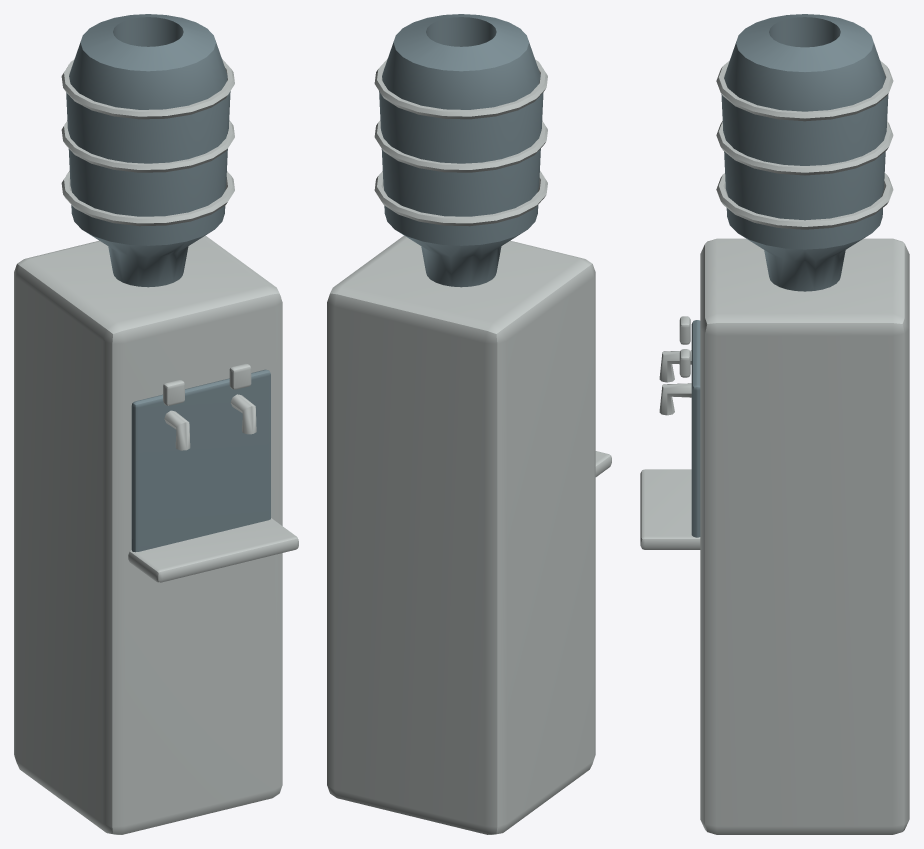
File: water-cooler.glb
3 renders of one model, left to right at view 1: azimuth 30°, elevation 25°; view 2: azimuth 150°, elevation 25°; view 3: azimuth 270°, elevation 25°, orthographic.
Parts seen in each view (by area): view 1: cooler_cabinet, water_bottle, recess, drip_tray, bottle_rib.002, bottle_rib, bottle_rib.001, dispensing_tap.001, dispensing_tap; view 2: cooler_cabinet, water_bottle, bottle_rib.002, bottle_rib, bottle_rib.001; view 3: cooler_cabinet, water_bottle, drip_tray, bottle_rib.002, recess, bottle_rib, bottle_rib.001, dispensing_tap.001, dispensing_tap.
Part boxes in pixels (x1,y1,x2,y2): cooler_cabinet: (14,235,282,834); water_bottle: (66,14,230,287); recess: (131,369,270,552); drip_tray: (128,518,298,582); bottle_rib.002: (61,59,234,119); bottle_rib: (61,171,234,226); bottle_rib.001: (61,120,234,172); dispensing_tap.001: (230,394,256,434); dispensing_tap: (164,410,190,450); cooler_cabinet: (327,235,595,834); water_bottle: (379,14,543,287); bottle_rib.002: (374,59,547,119); bottle_rib: (374,171,547,226); bottle_rib.001: (374,120,547,172); cooler_cabinet: (700,238,909,834); water_bottle: (721,14,888,291); drip_tray: (640,469,700,549); bottle_rib.002: (716,60,893,121); recess: (691,320,700,537); bottle_rib: (716,173,893,229); bottle_rib.001: (716,121,893,175); dispensing_tap.001: (659,383,691,415); dispensing_tap: (659,350,691,382).
Bounding box in the file's own units: 0.35 × 1.41 × 0.45.
